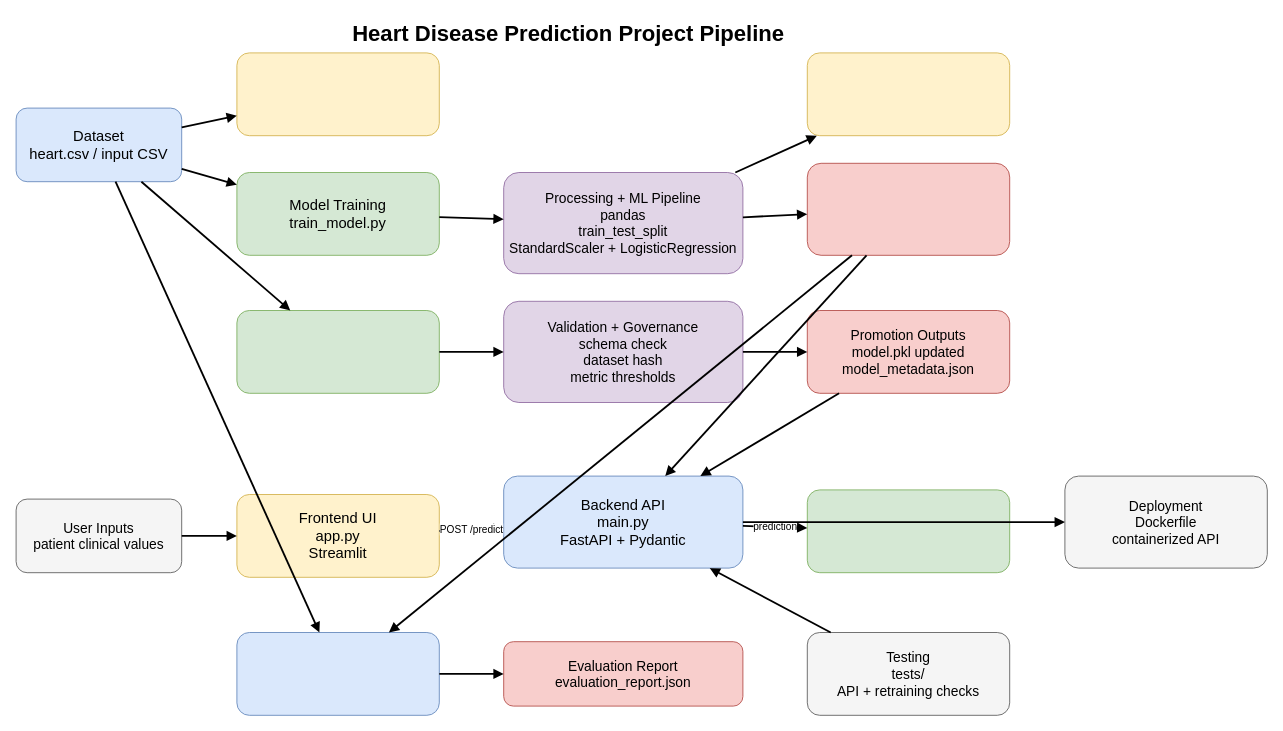
Image size: 1283x731. Some labels were removed from this diagram. Here are the shapes that lost their labels. From the top down, the centre of each, then its label:
At pixel 337 94: "Data Inspection check_dataset.py (preview rows, columns)".
At pixel 908 94: "Experiment Tracking MLflow mlruns/".
At pixel 908 208: "Training Outputs model.pkl training_report.json".
At pixel 337 351: "Controlled Retraining retrain_if_needed.py".
At pixel 908 531: "Prediction Response high_risk / low_risk probability".
At pixel 337 673: "Offline Evaluation evaluate_model.py".
